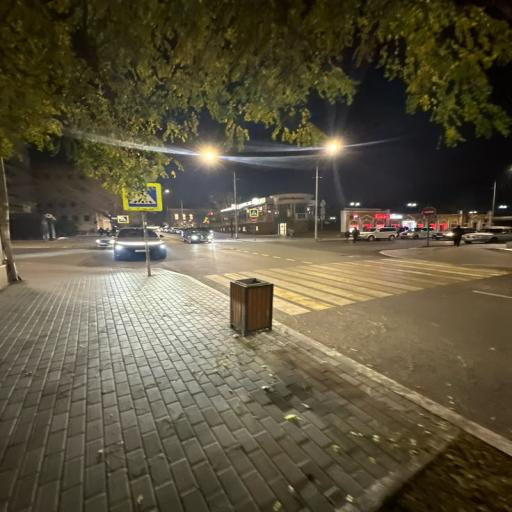bottle: (112, 213, 170, 267)
closet: (201, 249, 511, 322)
ramp: (146, 226, 511, 440)
shelf: (0, 248, 511, 511)
traffic_light: (225, 274, 282, 342)
